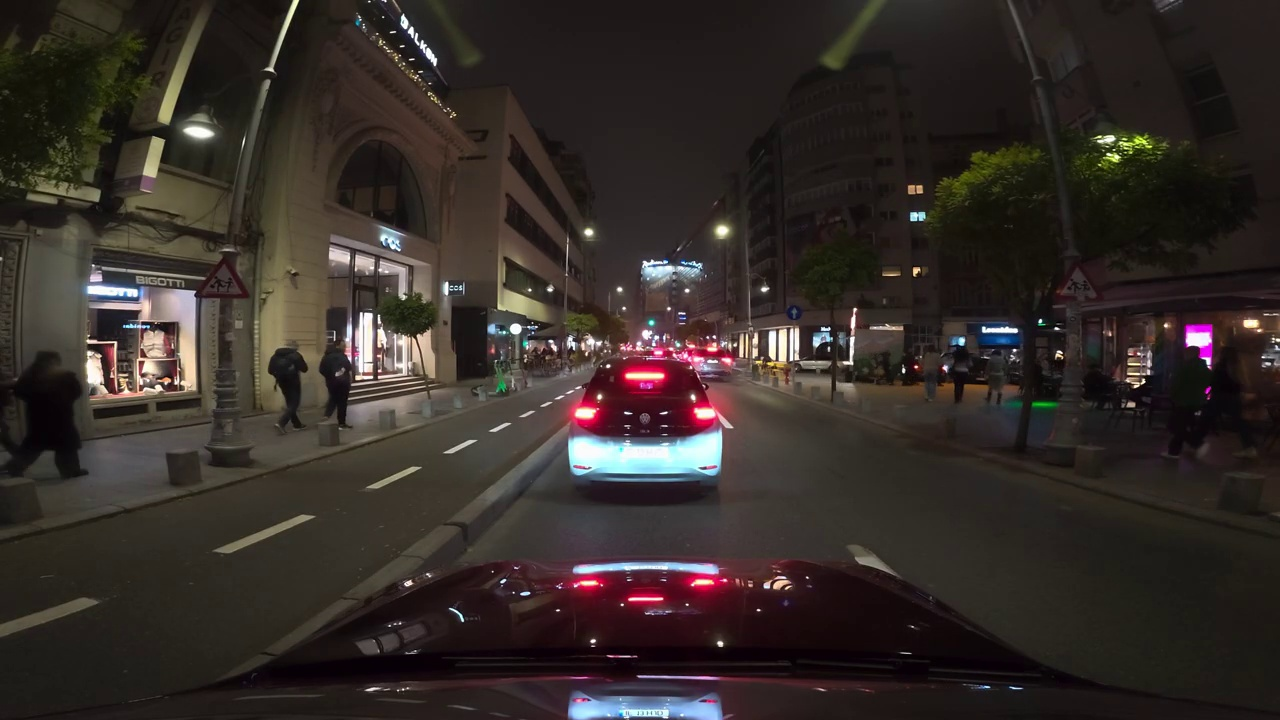acesa: (709, 220, 735, 243), (579, 222, 599, 245)
